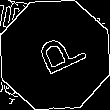P_SW: (24, 27, 86, 83)
